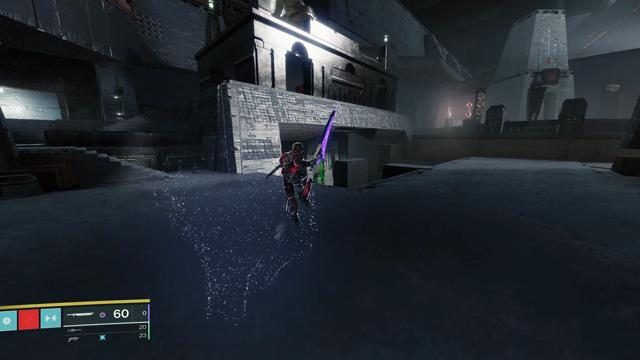brain: (605, 81, 621, 94)
stop: (545, 70, 559, 84)
